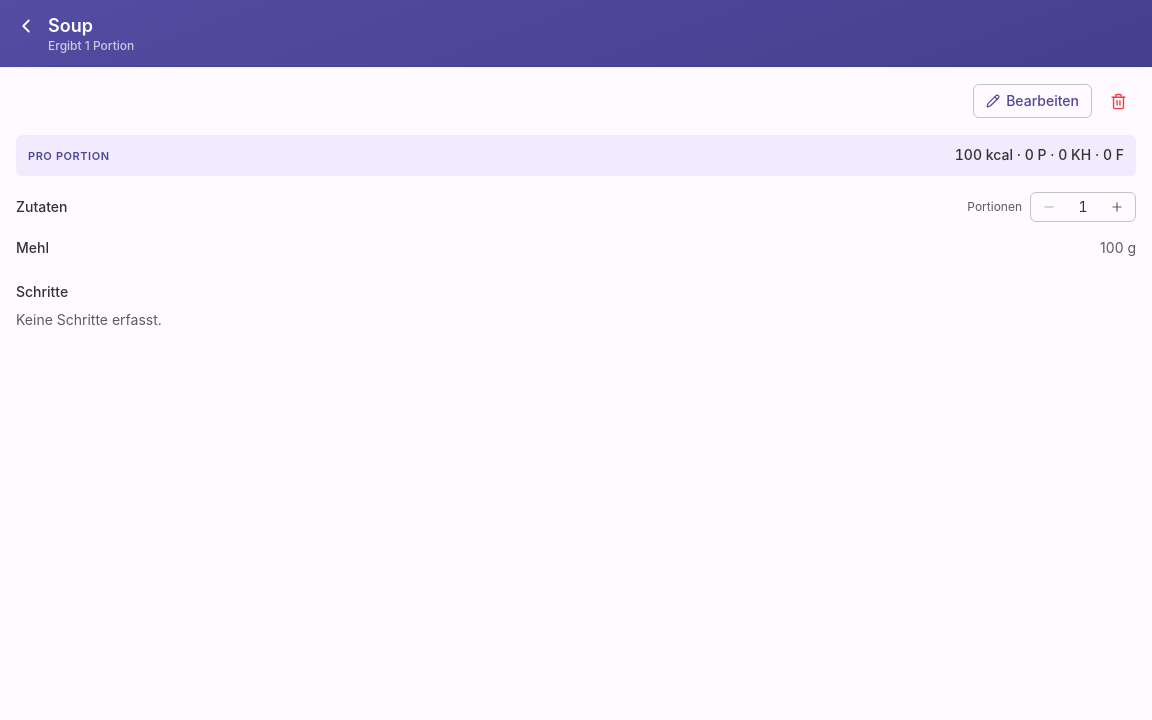
Test case: RecipeDetail — header back-arrow › opens the editor with a title + back-arrow that cancels back to read view (no × button)
expect the heading "Soup" is shown: met, box [48,15,93,36]
Click the button with aria-label "rezept bearbeiten" at (1033, 101), box [973,84,1092,118]
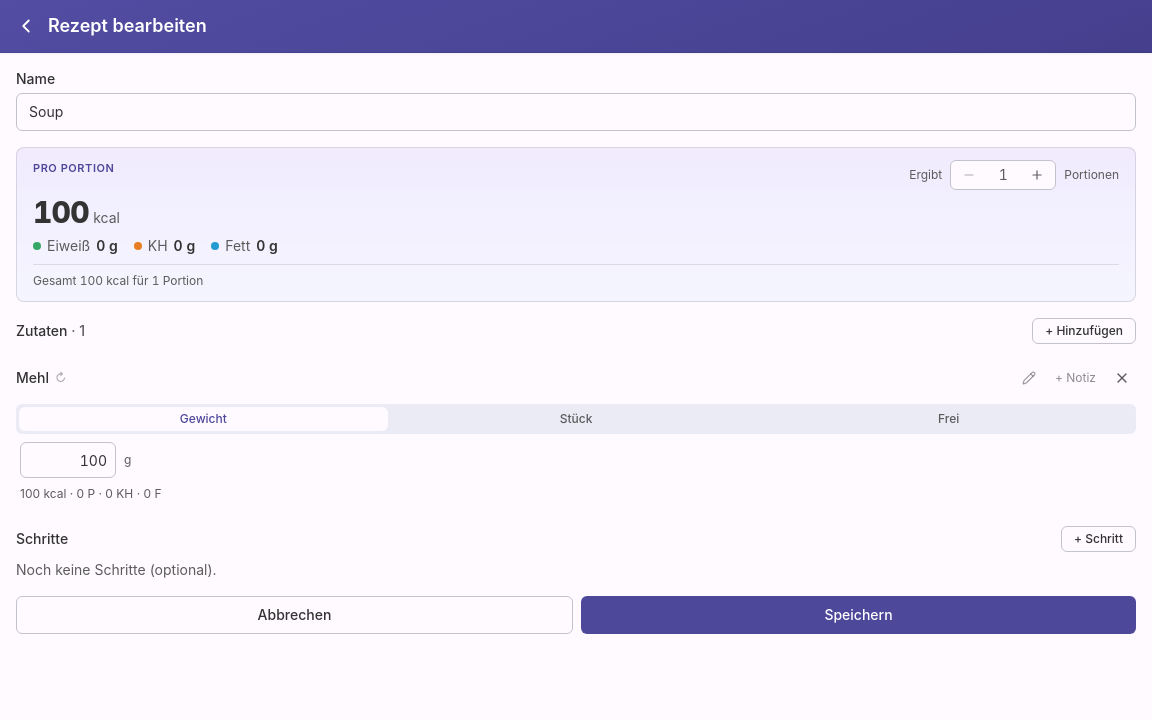
expect the heading "Rezept bearbeiten" is shown: met, box [48,15,207,36]
The header back-arrow cancels back to the read view (title heading gone).
Click the button named "zurück" at (26, 26), box [8,8,44,44]
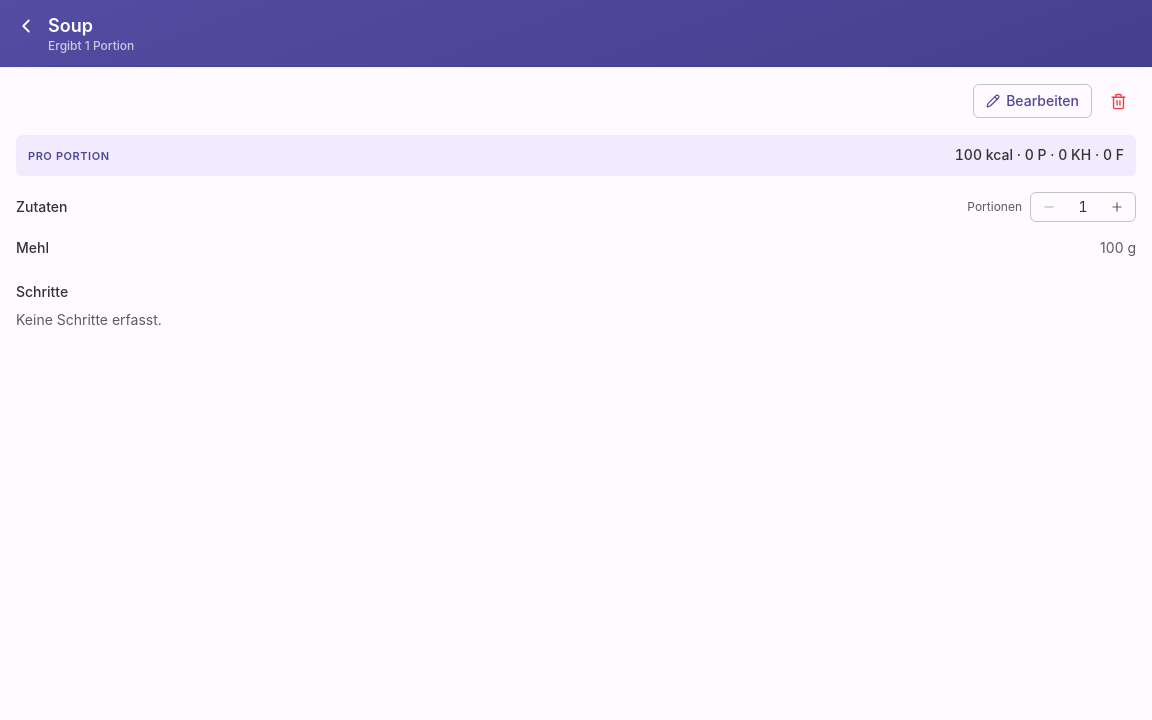
expect the heading "Rezept bearbeiten" is gone: met
